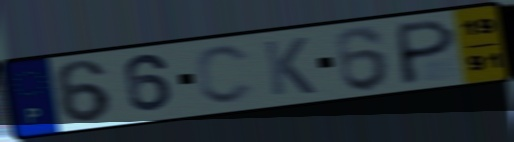6: (52, 58, 116, 125), (333, 24, 393, 94), (122, 52, 175, 116)
C: (192, 42, 258, 106)
K: (260, 35, 318, 98)
P: (396, 16, 459, 87)
